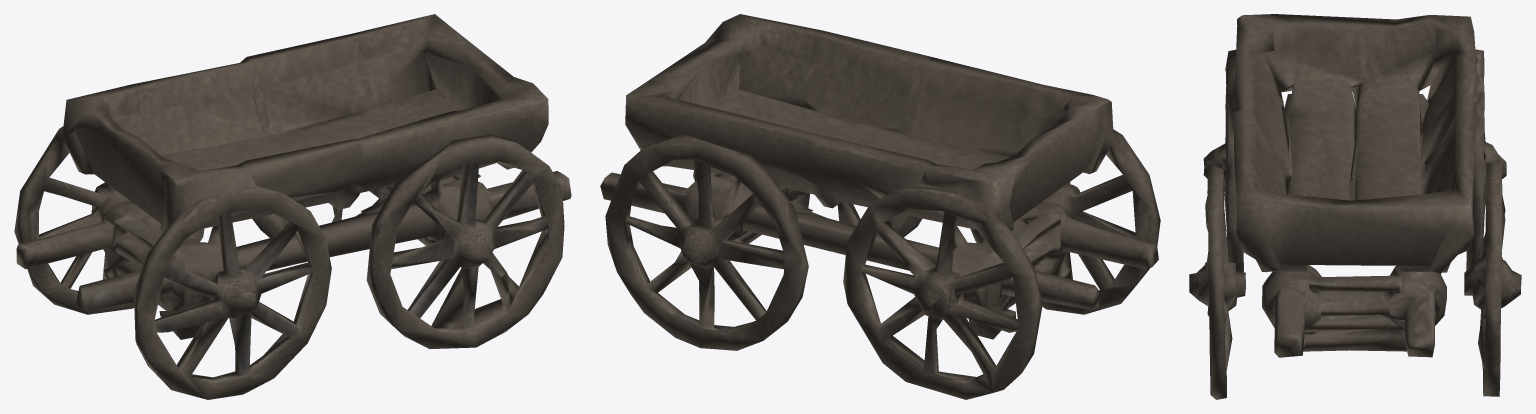
File: prp_cart_a.glb
3 renders of one model, left to right at view 1: azimuth 30°, elevation 25°; view 2: azimuth 150°, elevation 25°; view 3: azimuth 270°, elevation 25°, orthographic. The views are drawn at different scales.
Visible parts, largest first — view 1: prp_cart_a; view 2: prp_cart_a; view 3: prp_cart_a.
Boxes of the visible parts, box(x1,y1,x2,y2) form: prp_cart_a: box(14, 14, 571, 399); prp_cart_a: box(600, 14, 1160, 399); prp_cart_a: box(1189, 14, 1521, 399).
Bounding box in the file's own units: 3.61 × 1.6 × 2.07.
Materials: 1 (1 with a texture image).
